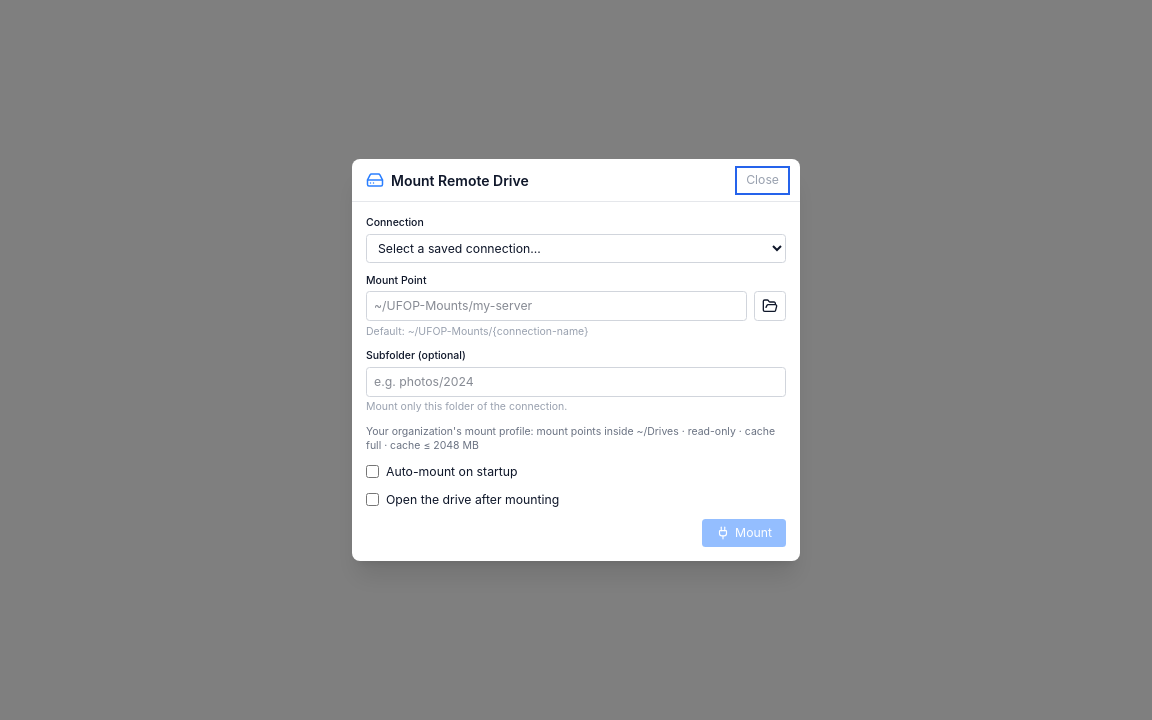
Test: mount dialog cache options › shows cache options for cloud drives, locks what the profile forces and sends the options
Check: the text with test id "mount-policy" shows "mount points inside ~/Drives · read-only · cache full · cache ≤ 2048 MB", box [366,424,775,452]
Select "nas (SFTP - h)" in the dropdown labelled "Connection" at [576, 248], box [366,234,786,263]
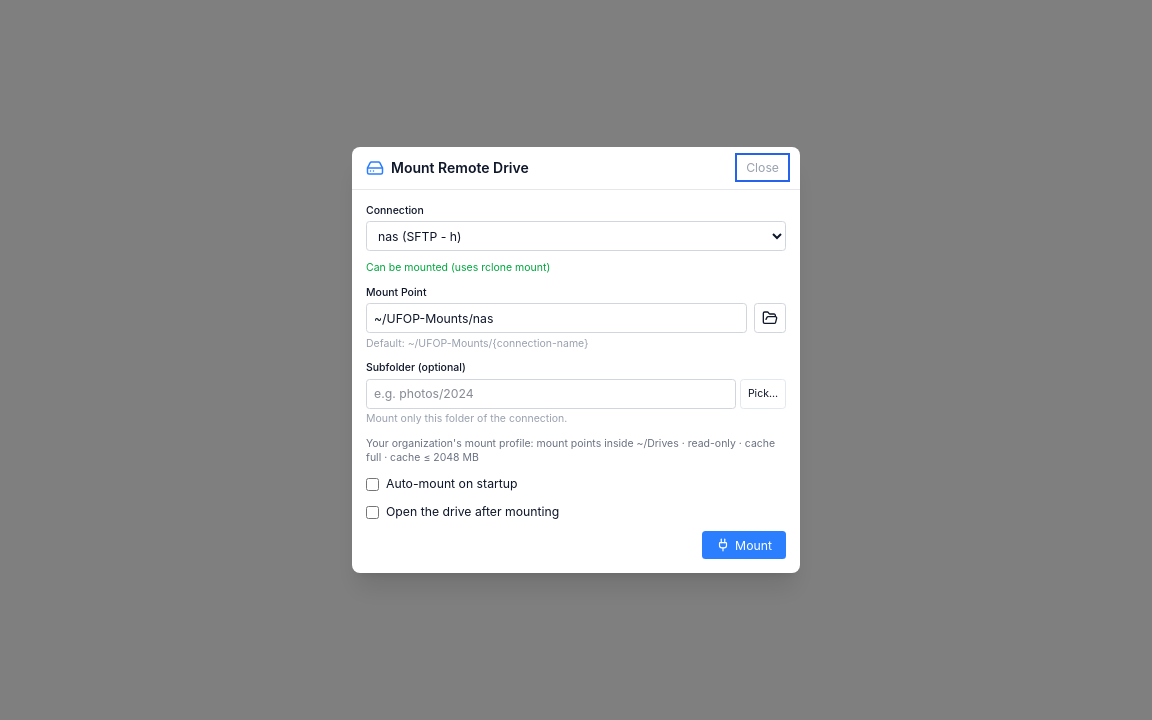
Check: the text "Can be mounted (uses rclone mount)" is shown, box [366,261,550,274]
Select "bucket (S3 - h)" in the dropdown labelled "Connection" at [576, 236], box [366,221,786,251]
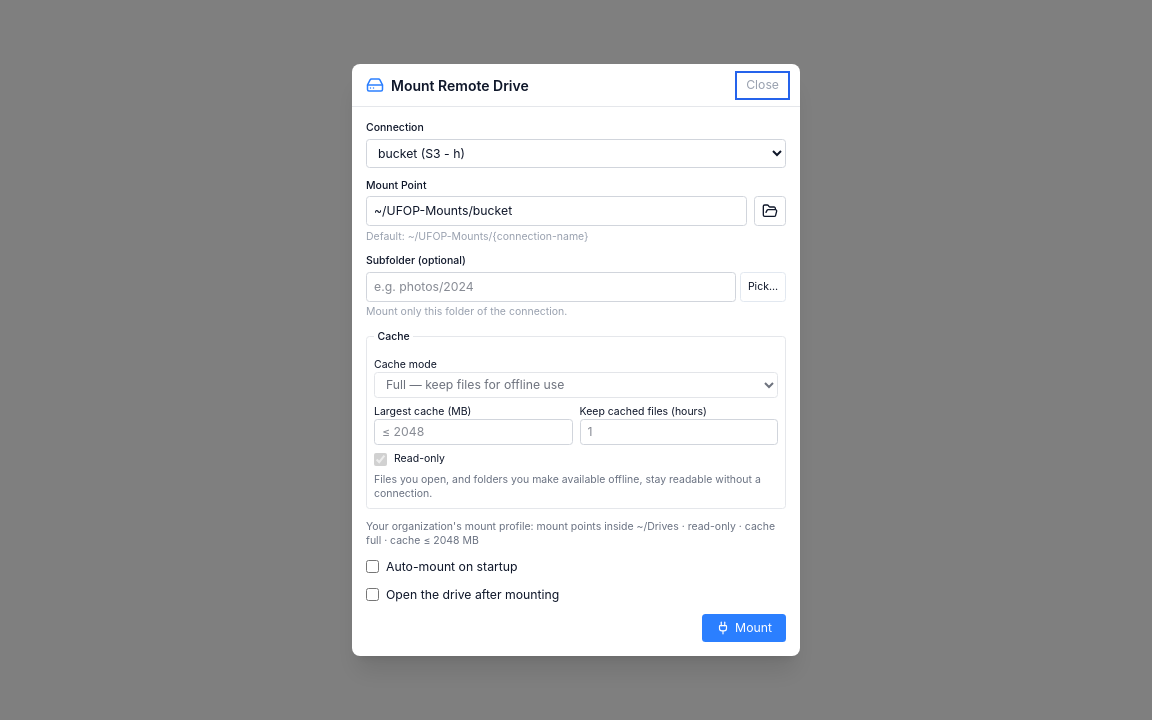
Check: the element named "Cache options" is shown, box [366,330,786,509]
Check: the dropdown labelled "Cache mode" is disabled, box [374,372,778,398]
Check: the dropdown labelled "Cache mode" shows "Full — keep files for offline use", box [374,372,778,398]
Type "500" into the number field labelled "Largest cache" at [473, 432], box [374,418,572,445]
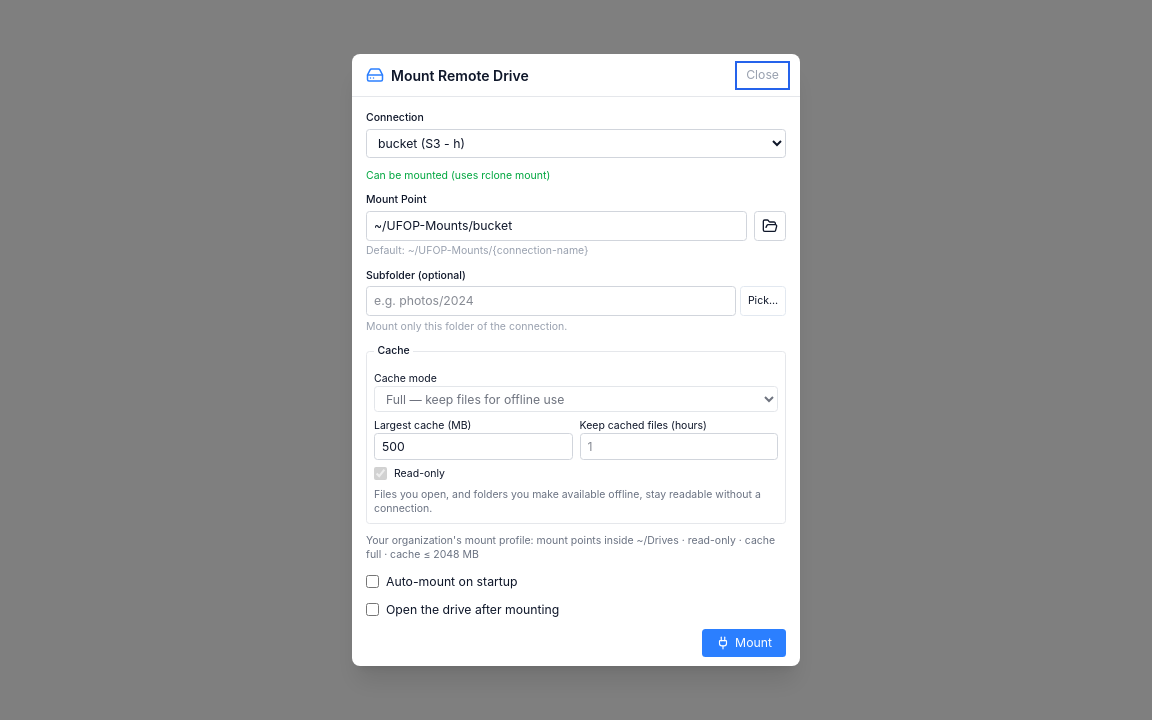
Type "48" into the number field labelled "Keep cached files" at [679, 446], box [580,433,778,460]
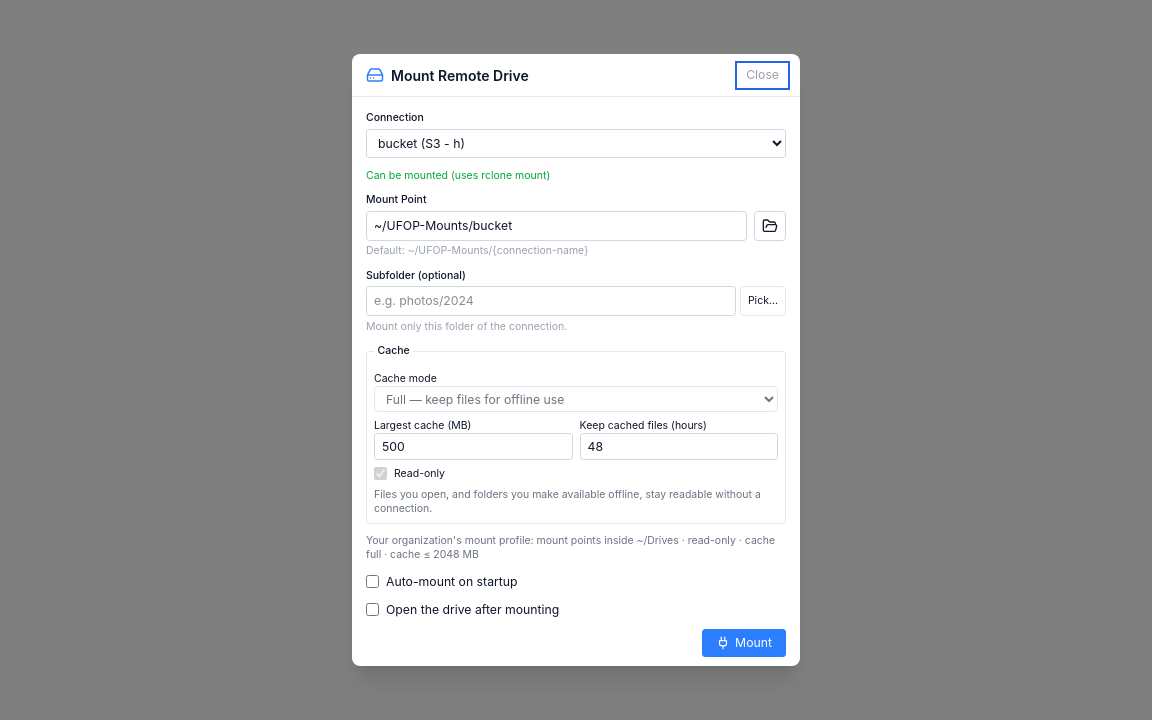
Click the text "Auto-mount on startup" at [442, 581], box [366,574,518,588]
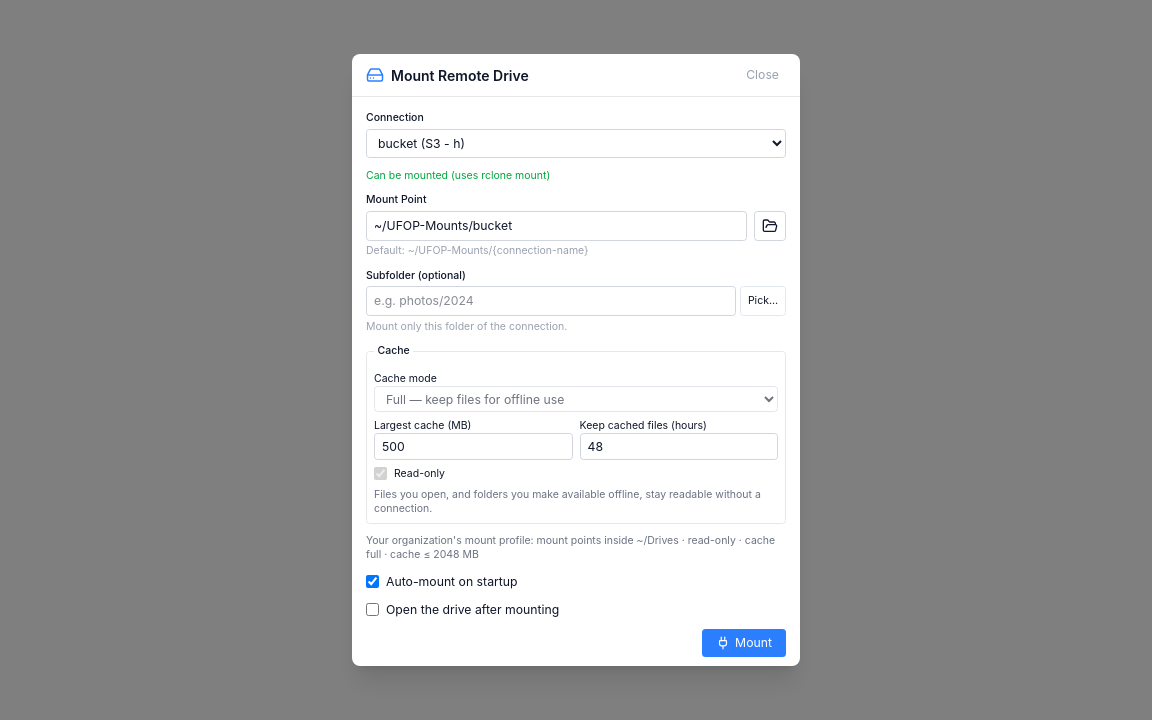
Click the button "Mount" at [744, 642], box [702,628,786,656]
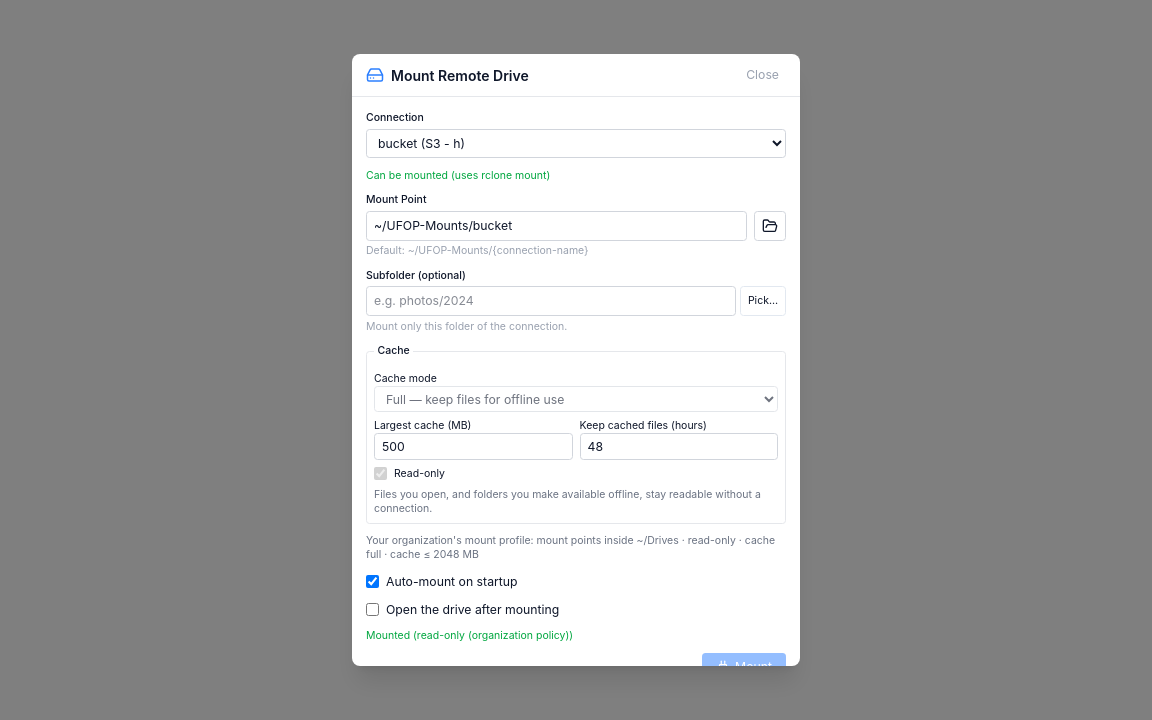
Check: the text "Mounted (read-only (organization policy))" is shown, box [366,628,573,642]
